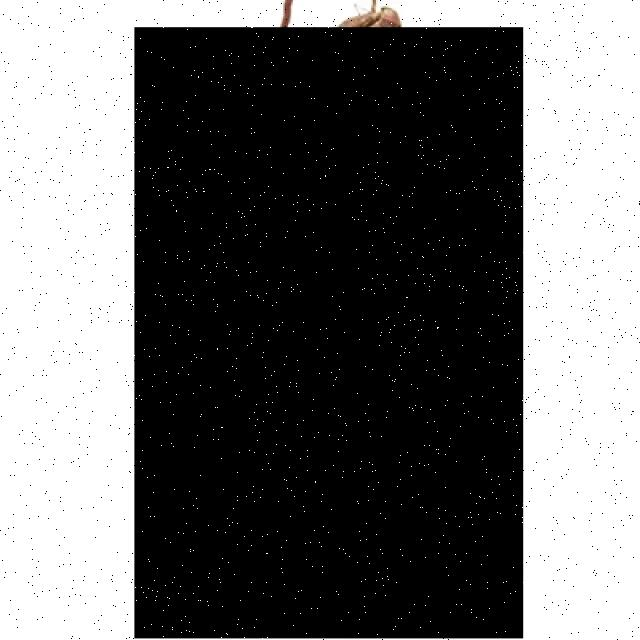Sweet_Potato: (136, 28, 525, 640)
